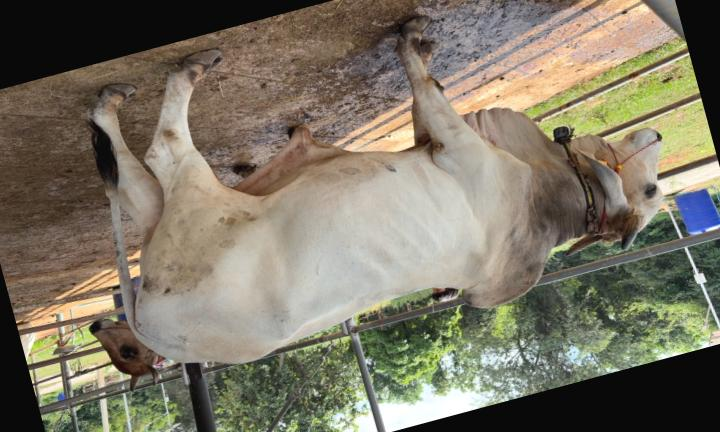Brahman: (88, 16, 661, 363)
